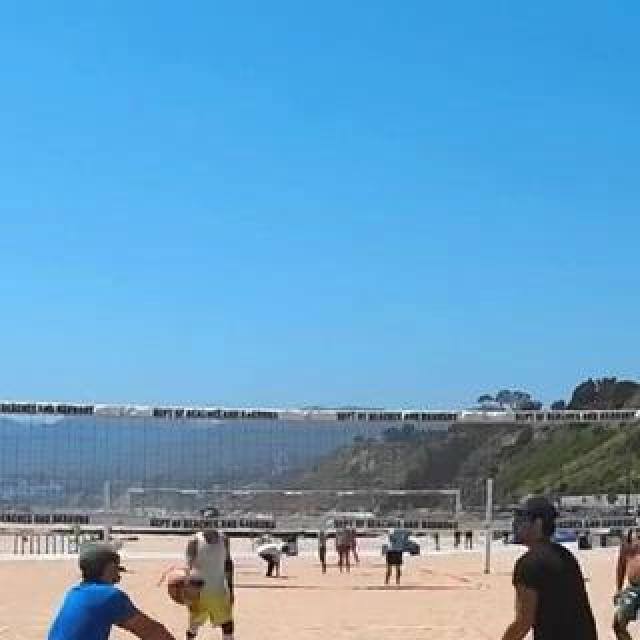volleyball: (167, 567, 207, 605)
